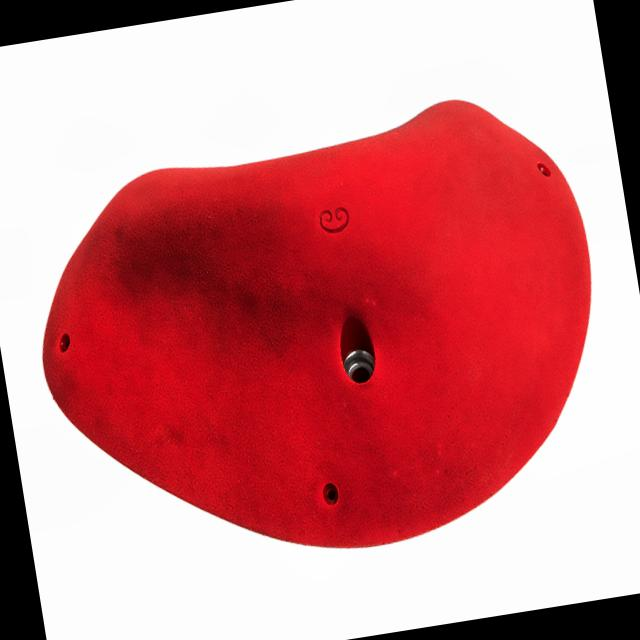Hold: (36, 87, 606, 565)
